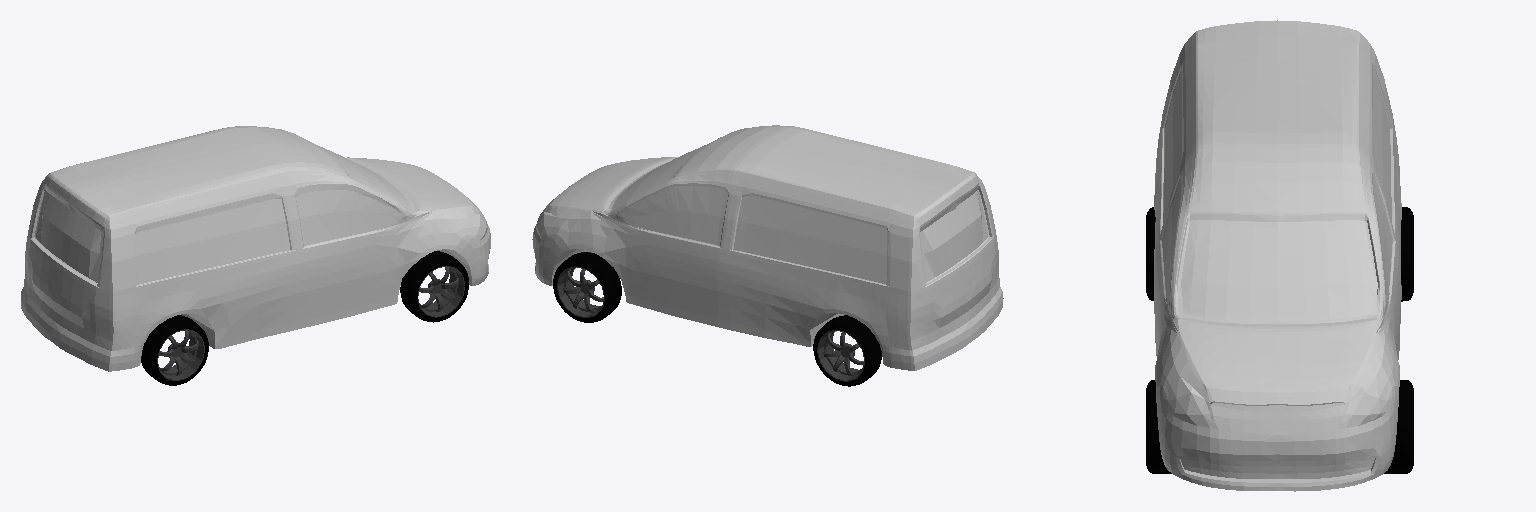
robot.urdf — car:
<?xml version="1.0"?>
<robot name="car">
  <material name="gray">
    <color rgba="0.8 0.8 0.8 1"/>
  </material>

  <gazebo reference="base_link">
    <material>Gazebo/Grey</material>
  </gazebo>

  <gazebo reference="right_front_steering">
    <material>Gazebo/Blue</material>
  </gazebo>

  <gazebo reference="left_front_steering">
  </gazebo>

  <gazebo reference="left_rear_wheel">
  </gazebo>

  <gazebo reference="right_rear_wheel">
    <material>Gazebo/Blue</material>
  </gazebo>

  <link name="base_link">
    <collision>
        <origin xyz="0 0 0.06" rpy="0 0 0"/>
        <geometry>
            <box size="0.001 0.001 0.001"/>
        </geometry>
    </collision>

    <visual>
      <geometry>
        <box size =".001 .001 .001"/>
      </geometry>
      <origin rpy="0 0 0.06" xyz="0 0 0"/>
    </visual>
  </link>

  <link name="body">
    <inertial>
      <origin xyz="0.2 0 0.043" rpy="0 0 0"/>
      <mass value="2.5" />
      <inertia ixx="0.0332083" ixy="0.0" ixz="0.0" iyy="0.01302083" iyz="0.0" izz="0.03685416"/>
    </inertial>

    <collision>
        <origin rpy="0 0 0" xyz="0.14 0 0.063"/>
        <geometry>
            <box size="0.45 0.2 0.15"/>
        </geometry>
    </collision>

    <visual>
      <geometry>
        <!--Dimensions: 37x20xheight   height may very depending on components, should be ~20cm-->
        <mesh filename="package://robot_description/models/car_robot/meshes/car.dae"/>
      </geometry>
      <origin rpy="0 0 0" xyz="0.147 0 0.063"/>
      <material name="gray"/>
    </visual>
  </link>

  <joint name="right_steering" type="revolute">
    <parent link="base_link"/>
    <child link="right_front_steering"/>
    <origin xyz="0.28 -0.08 0.0325"/>
    <axis  xyz="0 0 1"/>
    <limit lower="-0.87" upper="0.87" effort="1000" velocity="1000"/>
  </joint>

  <joint name="left_steering" type="revolute">
    <parent link="base_link"/>
    <child link="left_front_steering"/>
    <origin xyz="0.28 0.079 0.0325"/>
    <axis   xyz="0 0 1"/>
    <limit lower="-0.87" upper="0.87" effort="1000" velocity="1000"/>
  </joint>

  <link name="right_front_steering">
    <collision>
      <origin xyz="0 0 0" rpy="1.57075 0 0"/>
      <geometry>
        <cylinder radius="0.035" length="0.025"/>
      </geometry>
    </collision>

    <inertial>
      <origin rpy="1.57075 0 0" xyz="0 0 0"/>
      <mass value="0.001"/>
      <inertia
        ixx=".01" ixy="0.0" ixz="0.0"
        iyy=".01" iyz="0.0"
        izz=".01"/>
    </inertial>

    <visual>
      <geometry>
        <box size =".001 .001 .001"/>
      </geometry>
      <origin rpy="0 0 0" xyz="0 0 0"/>
    </visual>
  </link>

  <joint name="right_front_wheel_joint" type="continuous">
    <parent link="right_front_steering"/>
    <child link="right_front_wheel"/>
    <origin xyz="0.0 0.0 0.0"/>
    <axis   xyz="0 1 0"/>
  </joint>

  <link name="right_front_wheel">
    <collision>
      <origin xyz="0 0 0" rpy="1.57075 0 0"/>
      <geometry>
        <cylinder radius="0.035" length="0.025"/>
      </geometry>
    </collision>

    <inertial>
      <origin rpy="1.57075 0 0" xyz="0 0 0"/>
      <mass value="0.001"/>
      <inertia
        ixx=".01" ixy="0.0" ixz="0.0"
        iyy=".01" iyz="0.0"
        izz=".01"/>
    </inertial>


    <visual>
      <geometry>
        <!--        Diameter: 6.5cm, width: 2.5cm-->
        <mesh filename="package://robot_description/models/car_robot/meshes/wheel.dae"/>
      </geometry>
      <origin xyz="0 0 0" rpy="1.57075 0 0"/>
    </visual>
  </link>



  <link name="left_front_steering">

    <collision>
      <origin xyz="0 0 0" rpy="-1.57075 0 0"/>
      <geometry>
        <cylinder radius="0.035" length="0.025"/>
      </geometry>
    </collision>

    <inertial>
      <origin rpy="-1.57075 0 0" xyz="0 0 0"/>
      <mass value="0.001"/>
      <inertia
        ixx=".01" ixy="0.0" ixz="0.0"
        iyy=".01" iyz="0.0"
        izz=".01"/>
    </inertial>

    <visual>
      <geometry>
        <box size =".001 .001 .001"/>
      </geometry>
      <origin rpy="0 0 0" xyz="0 0 0"/>
    </visual>
  </link>

  <joint name="left_front_wheel_joint" type="continuous">
    <parent link="left_front_steering"/>
    <child link="left_front_wheel"/>
    <origin xyz="0.0 0.0 0.0"/>
    <axis   xyz="0 1 0"/>
  </joint>

  <link name="left_front_wheel">
    <collision>
      <origin xyz="0 0 0" rpy="-1.57075 0 0"/>
      <geometry>
        <cylinder radius="0.035" length="0.025"/>
      </geometry>
    </collision>

    <inertial>
      <origin rpy="-1.57075 0 0" xyz="0 0 0"/>
      <mass value="0.001"/>
      <inertia
        ixx=".01" ixy="0.0" ixz="0.0"
        iyy=".01" iyz="0.0"
        izz=".01"/>
    </inertial>

    <visual>
      <geometry>
        <mesh filename="package://robot_description/models/car_robot/meshes/wheel.dae"/>
      </geometry>
      <origin rpy="-1.57075 0 0" xyz="0 0 0"/>
    </visual>
  </link>

  <joint name="base_link_to_body" type="fixed">
    <parent link="base_link"/>
    <child link="body"/>
    <origin xyz="0 0 0.0325"/>
    <axis   xyz="0 1 0"/>
  </joint>


  <joint name="right_rear_wheel_joint" type="continuous">
    <parent link="body"/>
    <child link="right_rear_wheel"/>
    <origin xyz="0 -0.08 0.0"/>
    <axis   xyz="0 1 0"/>
  </joint>

  <link name="right_rear_wheel">
    <collision>
      <origin xyz="0 0 0" rpy="1.57075 0 0"/>
      <geometry>
        <cylinder radius="0.035" length="0.025"/>
      </geometry>
    </collision>

    <inertial>
      <origin rpy="1.57075 0 0" xyz="0 0 0"/>
      <mass value="0.001"/>
      <inertia
        ixx=".01" ixy="0.0" ixz="0.0"
        iyy=".01" iyz="0.0"
        izz=".01"/>
    </inertial>

    <visual>
      <geometry>
        <mesh filename="package://robot_description/models/car_robot/meshes/wheel.dae"/>
      </geometry>
      <origin rpy="1.57075 0 0" xyz="0 0 0"/>
    </visual>
  </link>

  <joint name="left_rear_wheel_joint" type="continuous">
    <parent link="body"/>
    <child link="left_rear_wheel"/>
    <origin xyz="0 0.079 0.0"/>
    <axis   xyz="0 1 0"/>
  </joint>

  <link name="left_rear_wheel">
    <collision>
      <origin xyz="0 0 0" rpy="-1.57075 0 0"/>
      <geometry>
        <cylinder radius="0.035" length="0.025"/>
      </geometry>
    </collision>

    <inertial>
      <origin rpy="-1.57075 0 0" xyz="0 0 0"/>
      <mass value="0.001"/>
      <inertia
        ixx=".01" ixy="0.0" ixz="0.0"
        iyy=".01" iyz="0.0"
        izz=".01"/>
    </inertial>

    <visual>
      <geometry>
        <mesh filename="package://robot_description/models/car_robot/meshes/wheel.dae"/>
      </geometry>
      <origin rpy="-1.57075 0 0" xyz="0 0 0"/>
    </visual>
  </link>

</robot>

--- Facts derived from the render (not from the file) ---
The picture shows the robot from 3 angles, left to right: view 1: azimuth 30°, elevation 25°; view 2: azimuth 150°, elevation 25°; view 3: azimuth 270°, elevation 25°; orthographic projection.
Model car with 8 links and 7 joints (2 revolute, 4 continuous, 1 fixed), rooted at base_link, posed every joint at zero.
Links seen in each view (by area): view 1: body, right_front_wheel, right_rear_wheel; view 2: body, left_front_wheel, left_rear_wheel; view 3: body, left_front_wheel, right_front_wheel, left_rear_wheel, right_rear_wheel.
Boxes of the visible links, bbox=[...] form: body: bbox=[21, 126, 490, 371]; right_front_wheel: bbox=[400, 251, 468, 322]; right_rear_wheel: bbox=[141, 315, 208, 385]; body: bbox=[532, 125, 1003, 370]; left_front_wheel: bbox=[553, 252, 621, 322]; left_rear_wheel: bbox=[813, 315, 881, 386]; body: bbox=[1154, 20, 1401, 491]; left_front_wheel: bbox=[1384, 380, 1413, 473]; right_front_wheel: bbox=[1146, 380, 1171, 473]; left_rear_wheel: bbox=[1401, 207, 1413, 301]; right_rear_wheel: bbox=[1146, 207, 1155, 300].
Bounding box of the posed robot: 0.4511 × 0.1835 × 0.1823 m (x, y, z).
5 mesh visuals loaded from 2 distinct referenced files (2 Collada DAE).